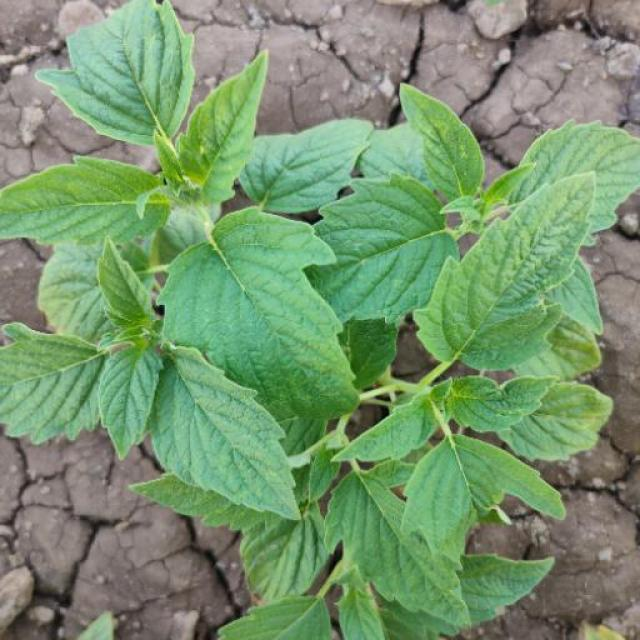crop: (1, 14, 638, 634)
